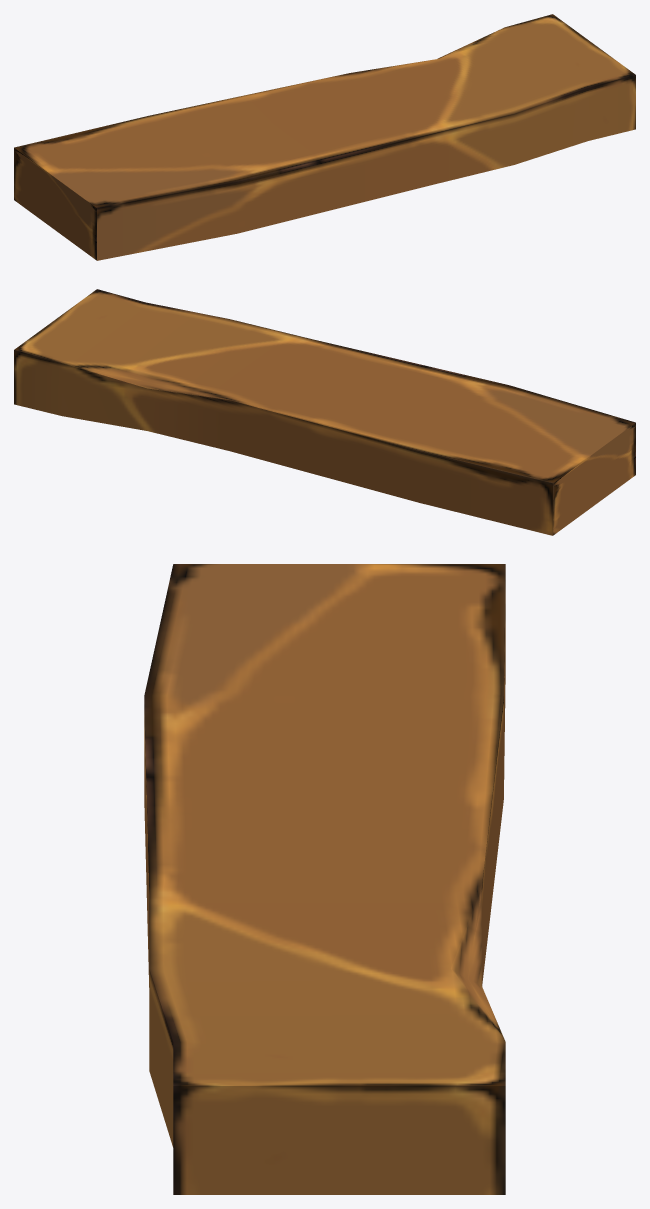
Rendered from Moonset_FBX_dalle_06.fbx.
3 renders of one model, top to bottom at view 1: azimuth 30°, elevation 25°; view 2: azimuth 150°, elevation 25°; view 3: azimuth 270°, elevation 25°, orthographic. The views are drawn at different scales.
Visible parts, largest first — view 1: Dalle_06; view 2: Dalle_06; view 3: Dalle_06.
Part boxes in pixels (left/top/right/bottom): Dalle_06: left=14, top=14, right=635, bottom=260; Dalle_06: left=14, top=289, right=635, bottom=535; Dalle_06: left=144, top=564, right=505, bottom=1194.
Bounding box in the file's own units: 5.37 × 0.5191 × 1.56.
